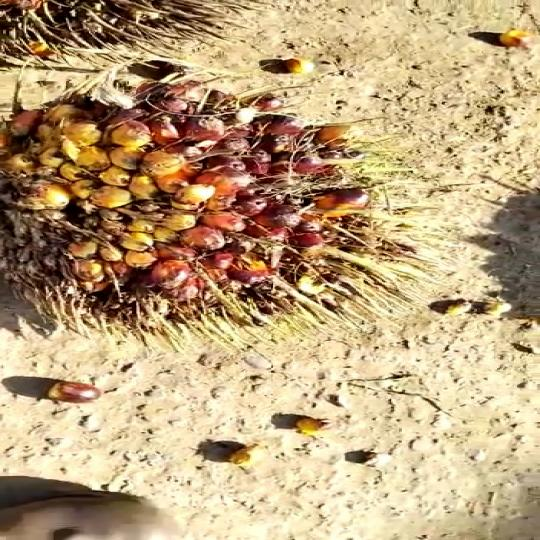masak: (0, 84, 391, 338)
